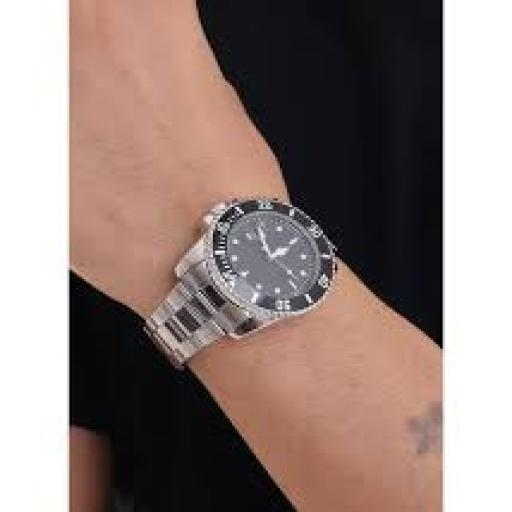KolSaati: (104, 165, 367, 383)
